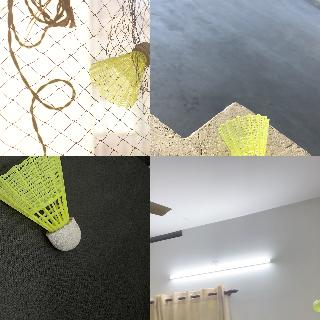shuttlecock: (0, 156, 81, 252), (88, 42, 149, 108), (217, 113, 269, 155), (312, 298, 319, 312)
